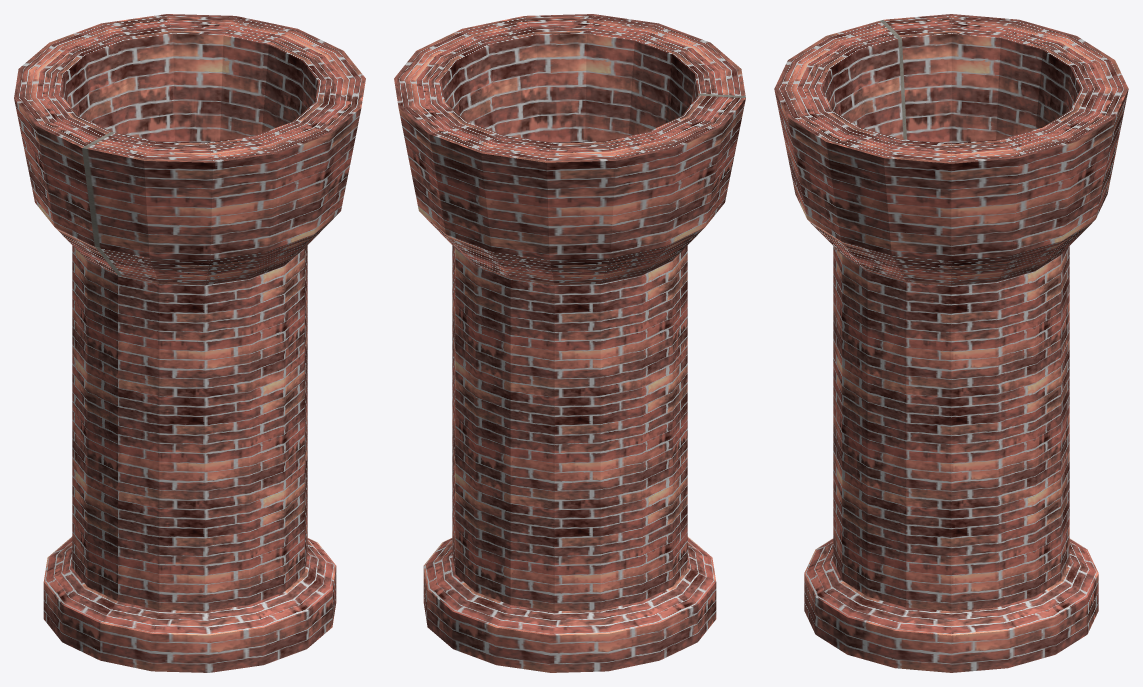
File: Modular_Brick_Chimney.fbx
3 renders of one model, left to right at view 1: azimuth 30°, elevation 25°; view 2: azimuth 150°, elevation 25°; view 3: azimuth 270°, elevation 25°, orthographic.
Visible parts, largest first — view 1: Chimmey; view 2: Chimmey; view 3: Chimmey.
Part boxes in pixels (box(x1,y1,x2,y2)): Chimmey: box(14, 14, 365, 672); Chimmey: box(394, 14, 745, 672); Chimmey: box(774, 14, 1128, 672).
Size of the model in its own units: 241 by 391 by 241.
